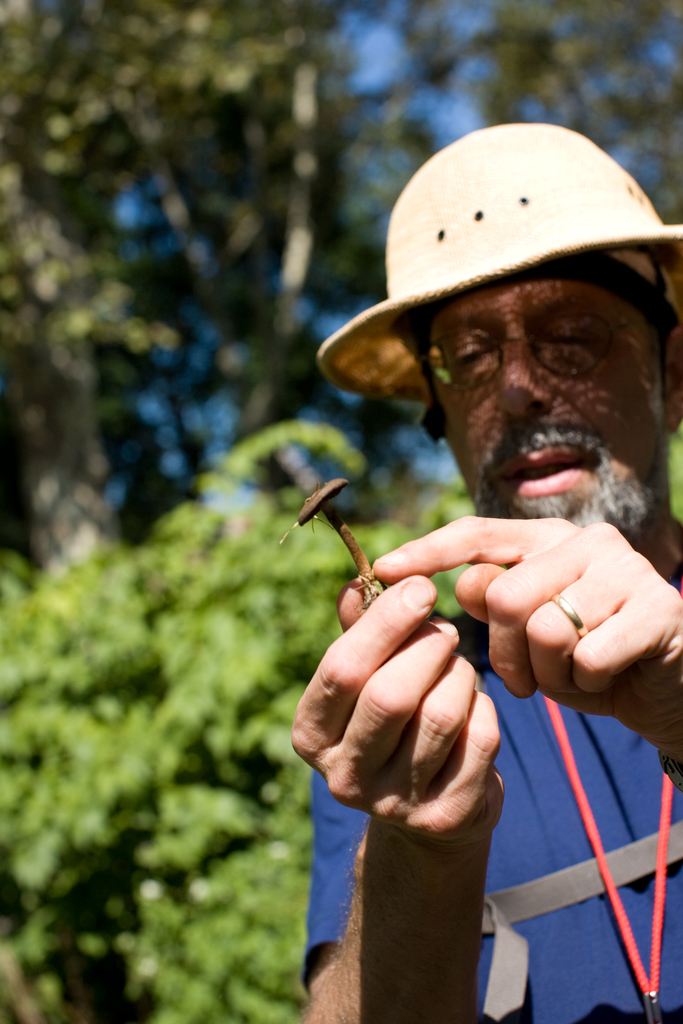Human_hand: (373, 509, 682, 757), (274, 589, 532, 842)
